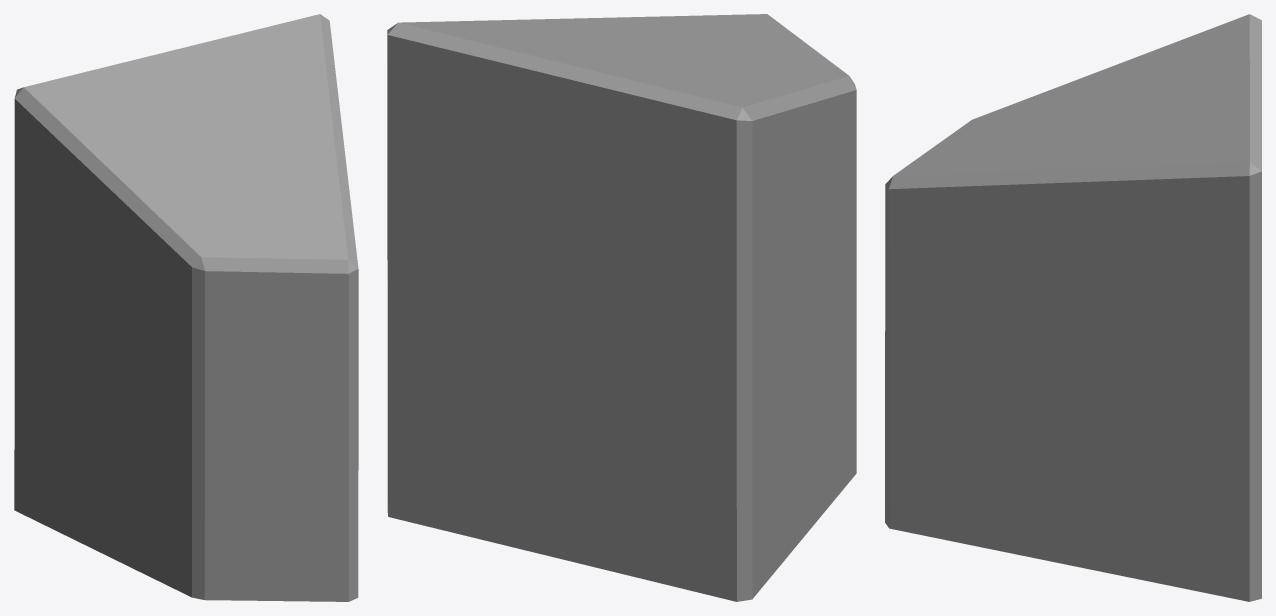
File: Isl_5_Stone_1.fbx
3 views of the same model, side by side, from view 1: azimuth 30°, elevation 25°; view 2: azimuth 150°, elevation 25°; view 3: azimuth 270°, elevation 25° (orthographic). The views are drawn at different scales.
Visible parts, largest first — view 1: Isl_5_Stone_1; view 2: Isl_5_Stone_1; view 3: Isl_5_Stone_1.
Boxes of the visible parts, box(x1,y1,x2,y2) form: Isl_5_Stone_1: box(14, 14, 358, 601); Isl_5_Stone_1: box(387, 14, 856, 601); Isl_5_Stone_1: box(885, 14, 1261, 601).
Size of the model in its own units: 105 by 106 by 135.
Materials: 1 (1 with a texture image).
